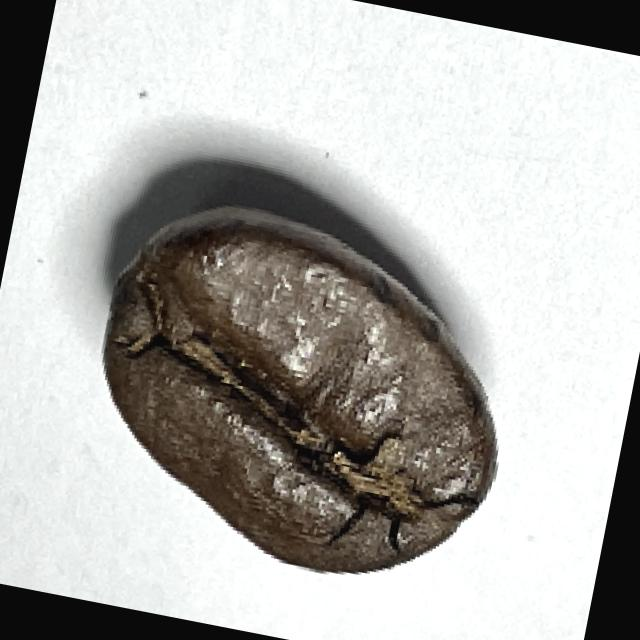bean: (62, 187, 544, 608)
